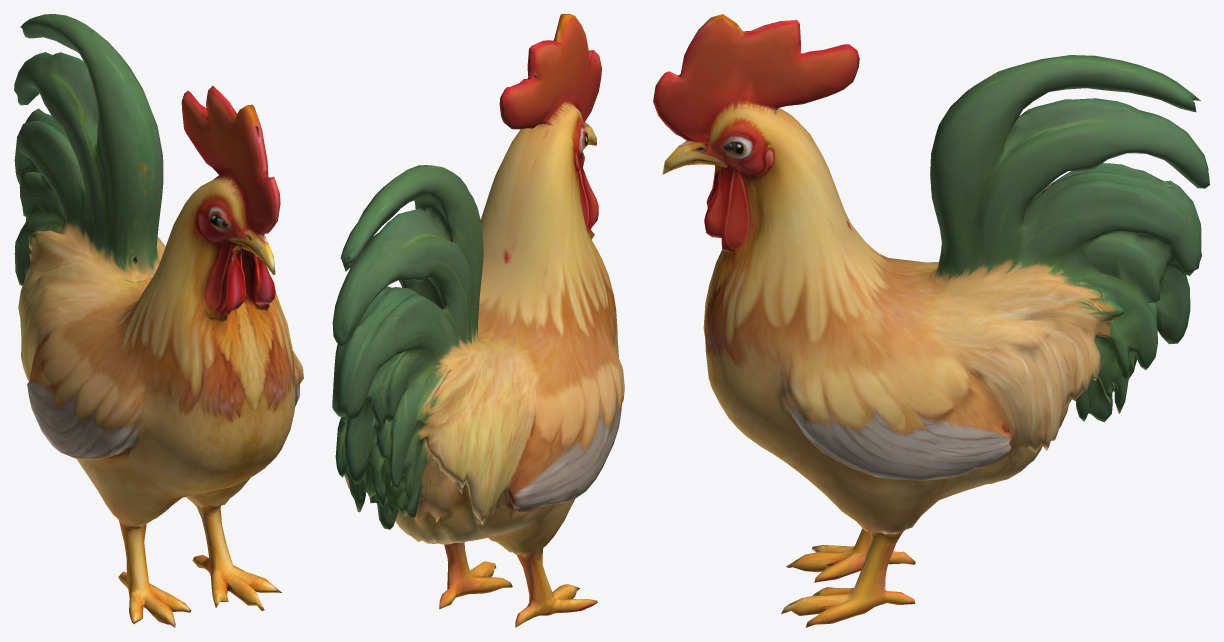
The model's file is rooster.glb.
3 renders of one model, left to right at view 1: azimuth 30°, elevation 25°; view 2: azimuth 150°, elevation 25°; view 3: azimuth 270°, elevation 25°, orthographic. The views are drawn at different scales.
Size of the model in its own units: 27204 by 65733 by 57331.
Materials: 1 (1 with a texture image).
